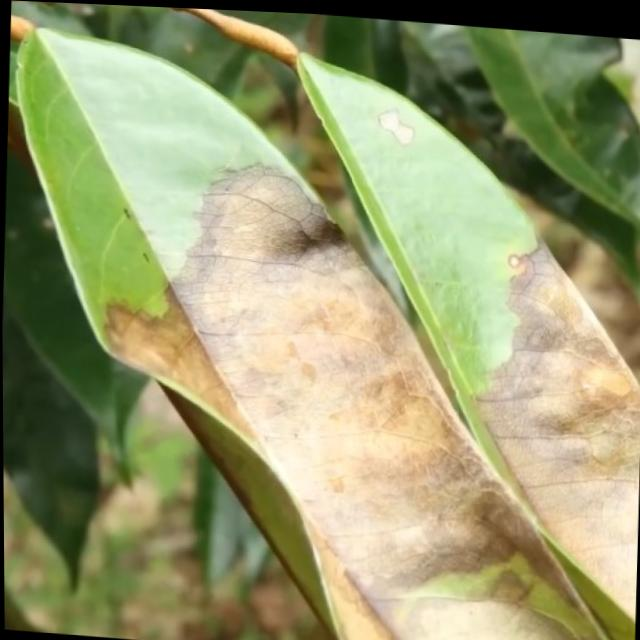Leaf Blight: (61, 103, 640, 640)
